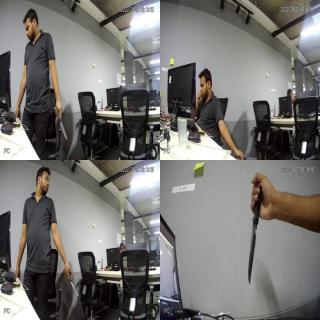knife: (249, 178, 263, 288), (56, 111, 68, 141), (67, 276, 79, 298), (241, 152, 257, 160)
